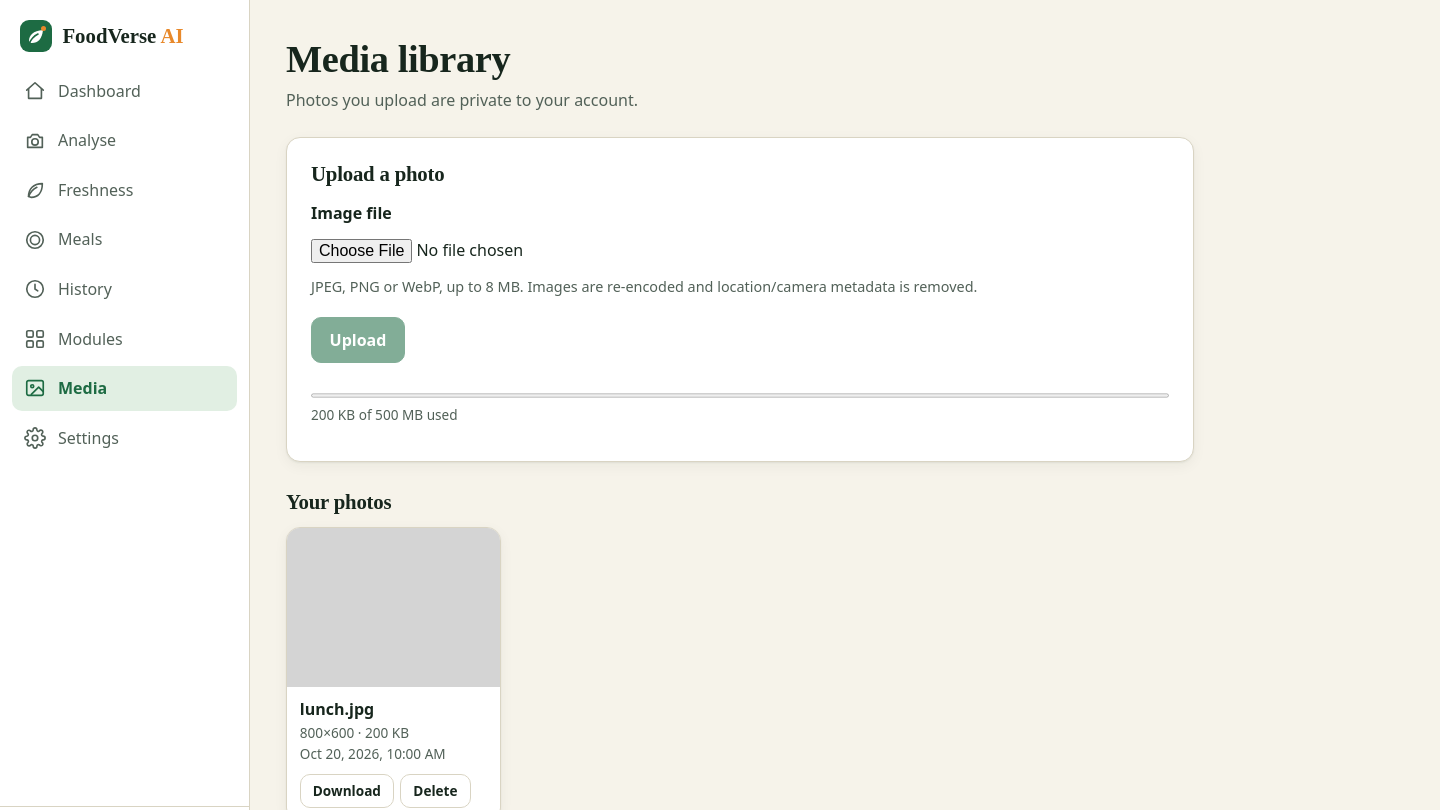
Scenario: media library › surfaces a failed delete as an error notification
Click the button with aria-label "Delete lunch.jpg": click(435, 791) [400,774,470,808]
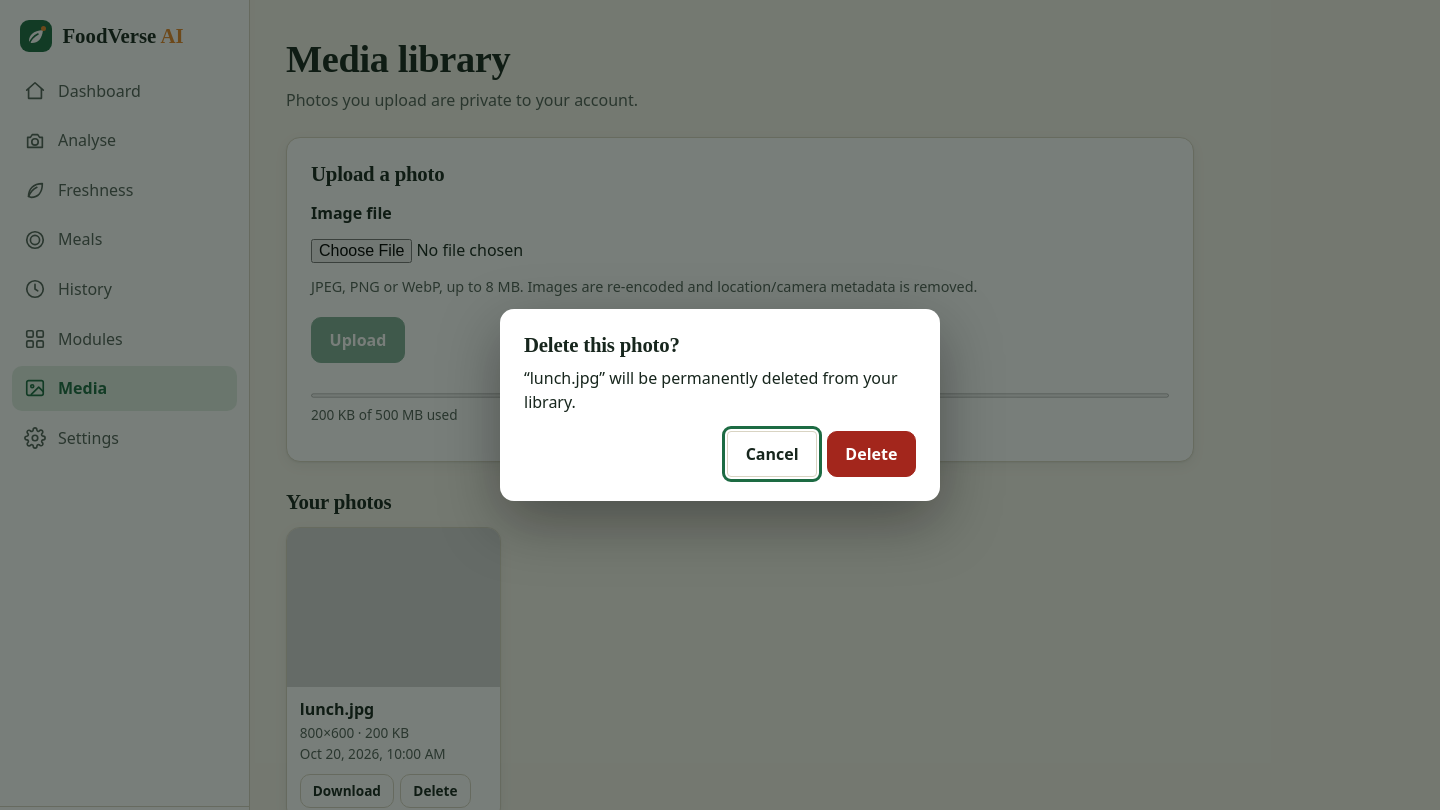
Click the button "Delete": click(871, 454) [827,431,916,477]
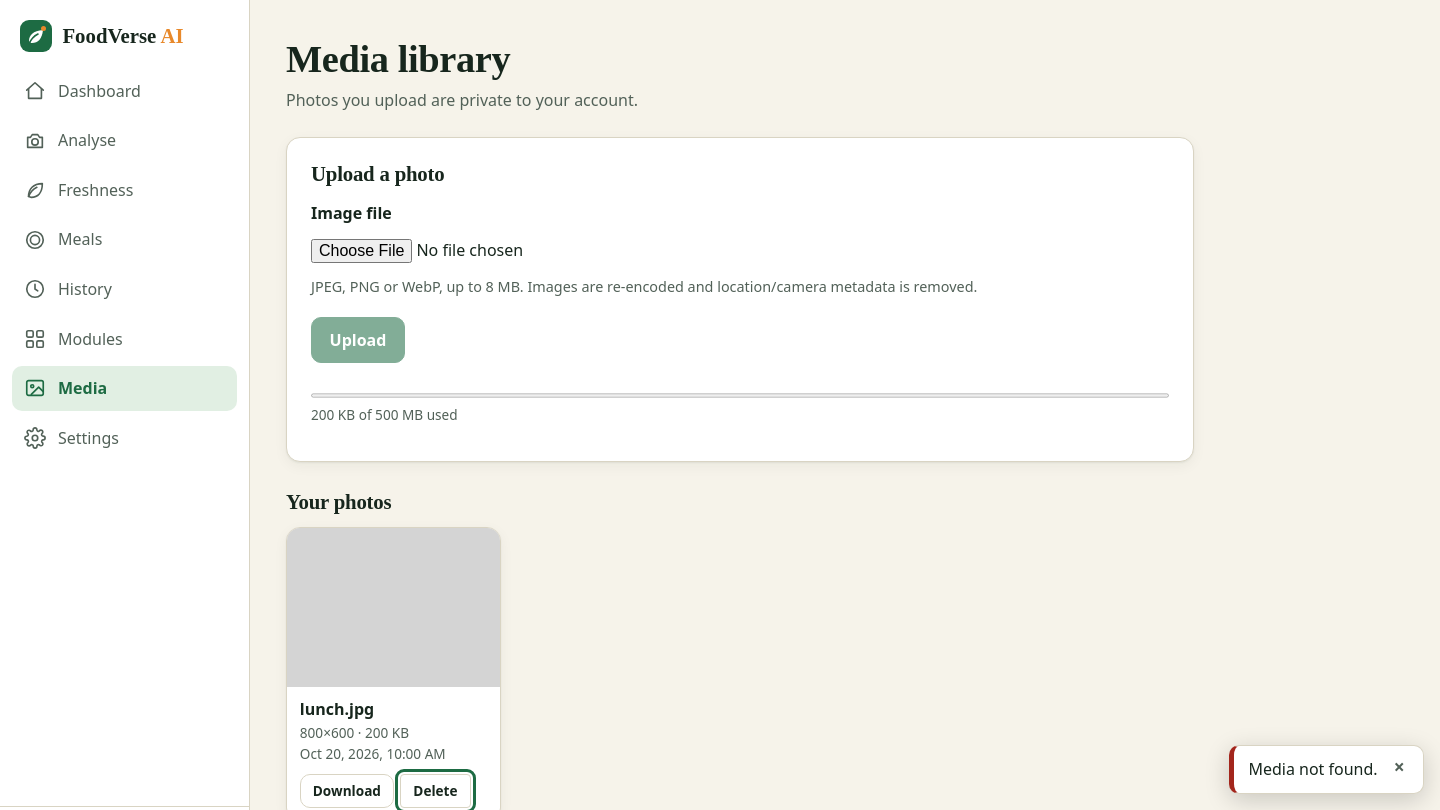
Expected: the text "Media not found." is shown, [1248,757,1378,782]
